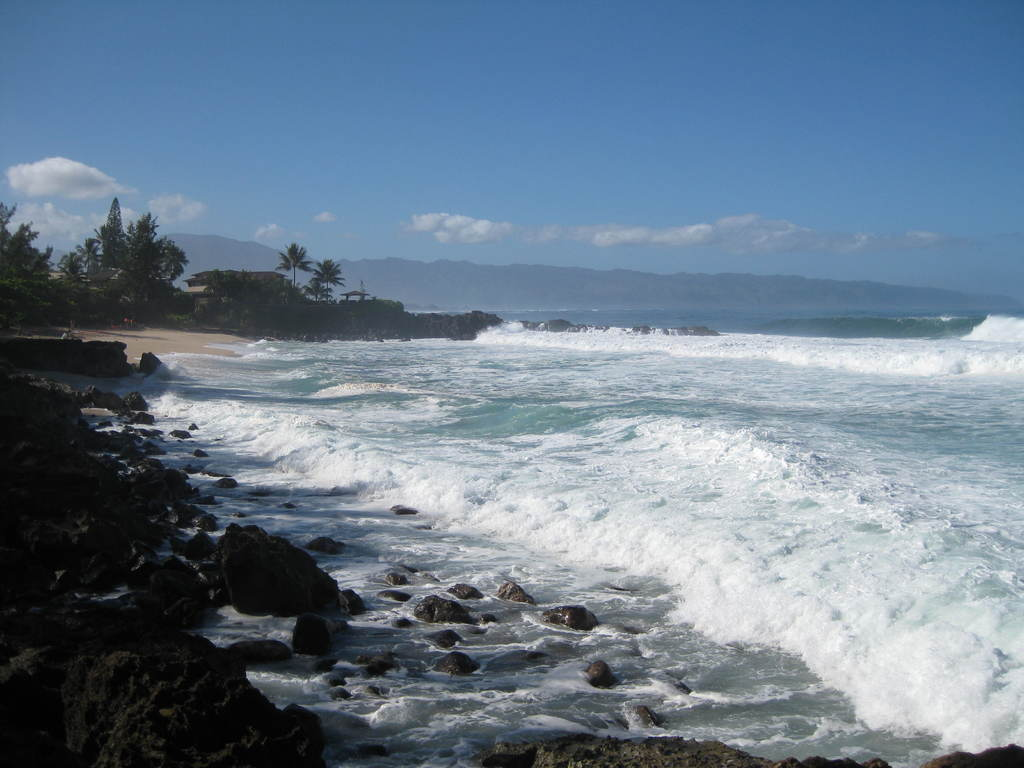Tree: (0, 199, 182, 318), (206, 268, 293, 325), (309, 254, 345, 307), (275, 242, 311, 288)
